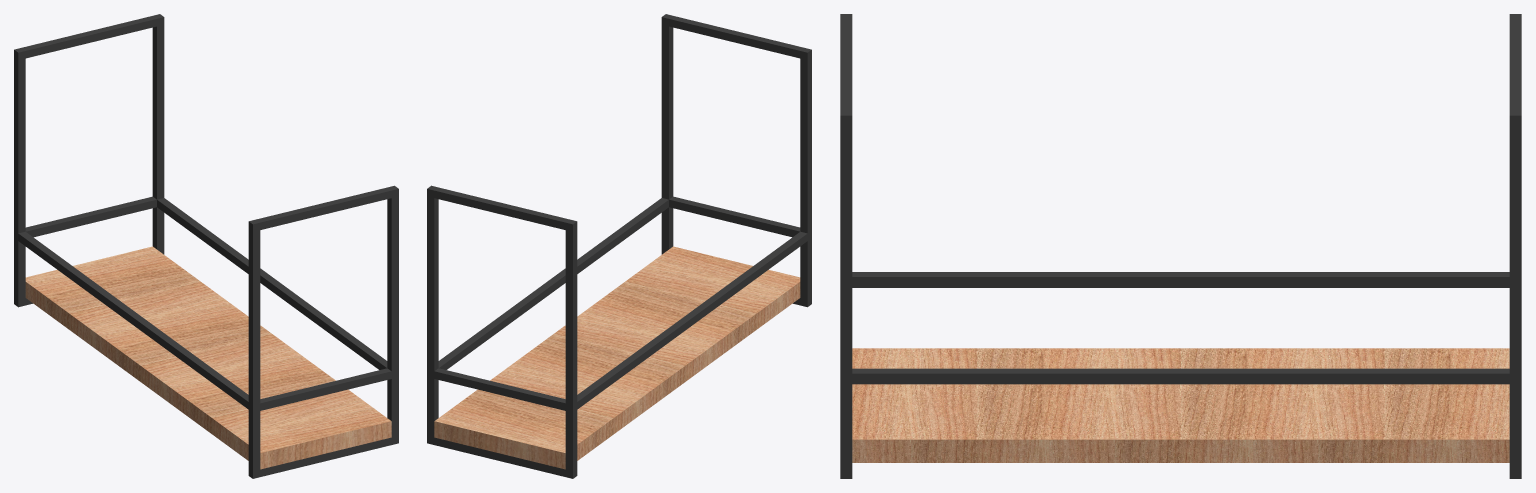
File: lampa-kwietnik.glb
3 renders of one model, left to right at view 1: azimuth 30°, elevation 25°; view 2: azimuth 150°, elevation 25°; view 3: azimuth 270°, elevation 25°, orthographic. The views are drawn at different scales.
Parts seen in each view (by area): view 1: Solid1 (×7); view 2: Solid1 (×7); view 3: Solid1 (×5).
Boxes of the visible parts, x1=… form: Solid1 (×7): x1=14, y1=14, x2=398, y2=478; Solid1 (×7): x1=427, y1=14, x2=811, y2=478; Solid1 (×5): x1=840, y1=14, x2=1521, y2=478.
Size of the model in its own units: 0.3 by 0.5 by 0.8501.
Materials: 3 (1 with a texture image).
